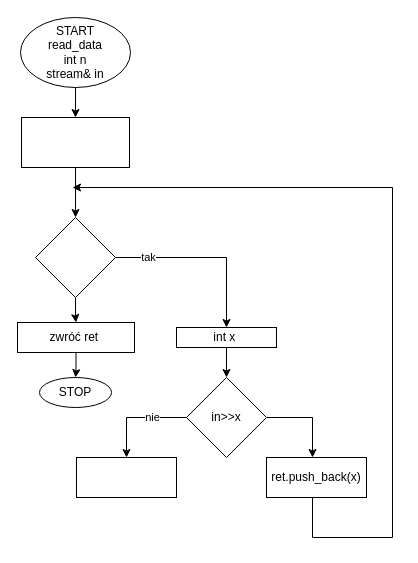
This 418x563 diagram has some shape labels left out. Each missing label, with the centre of its shape:
i < n || n<0: (75,257)
przerwij: (126,477)
vector<int> ret int i=0: (75,142)
